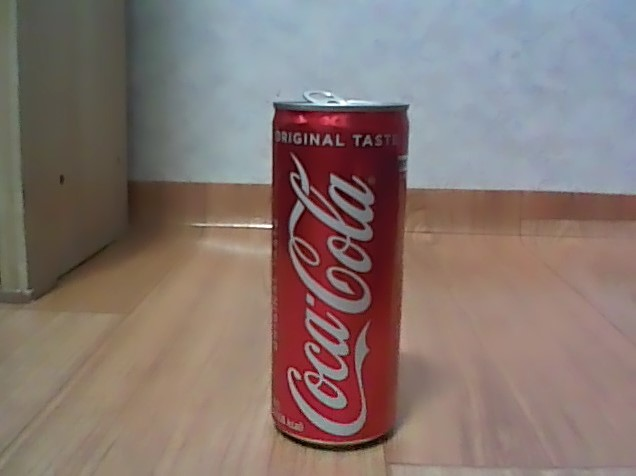Can: (263, 79, 412, 457)
